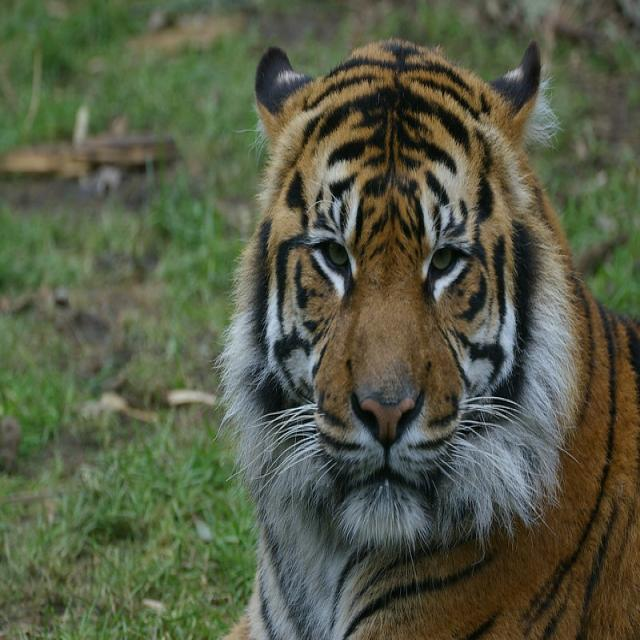Tiger: (218, 36, 638, 636)
